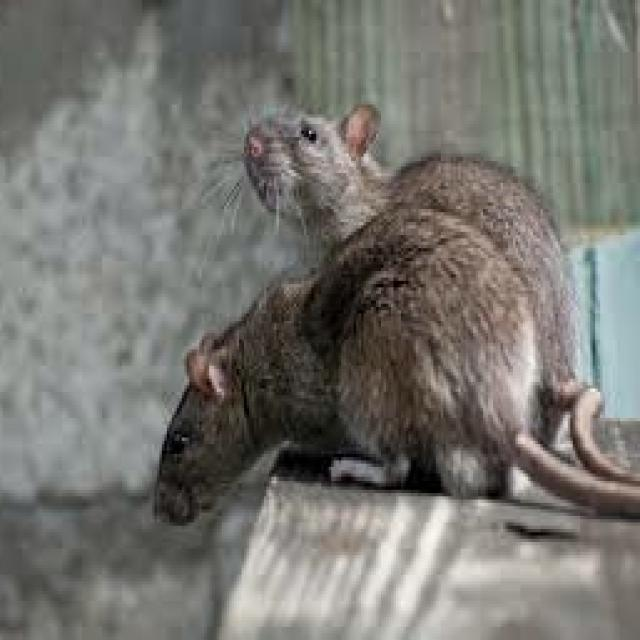rat: (157, 202, 640, 519), (247, 104, 640, 480)
